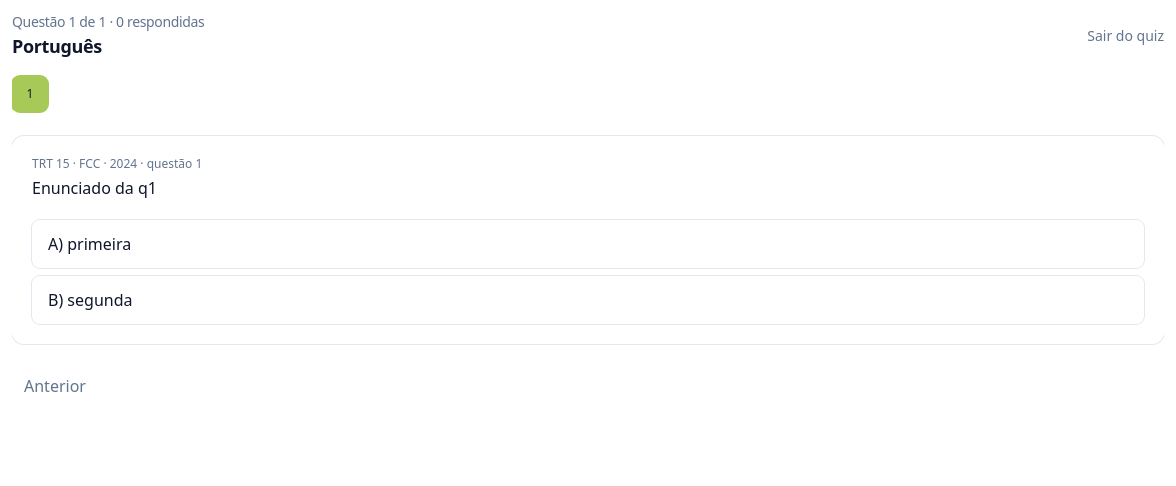
QuizExecucaoComponent › oferece o resultado quando todas foram respondidas
This screenshot has width=1176, height=486.
Click the button "A) primeira": (97, 244) x1=32 y1=220 x2=1144 y2=268
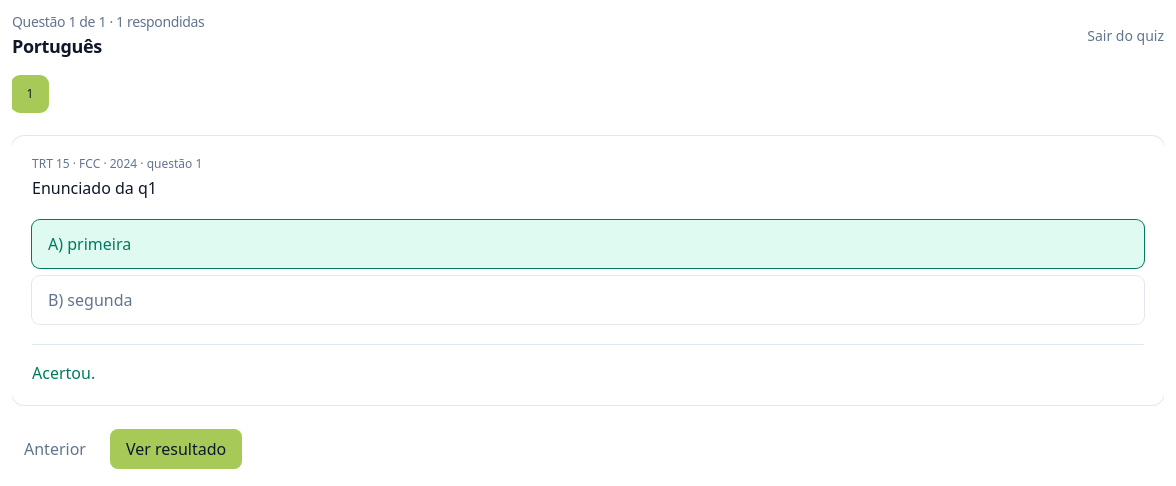
Now the text "Ver resultado" is shown, box x1=110 y1=429 x2=242 y2=469
